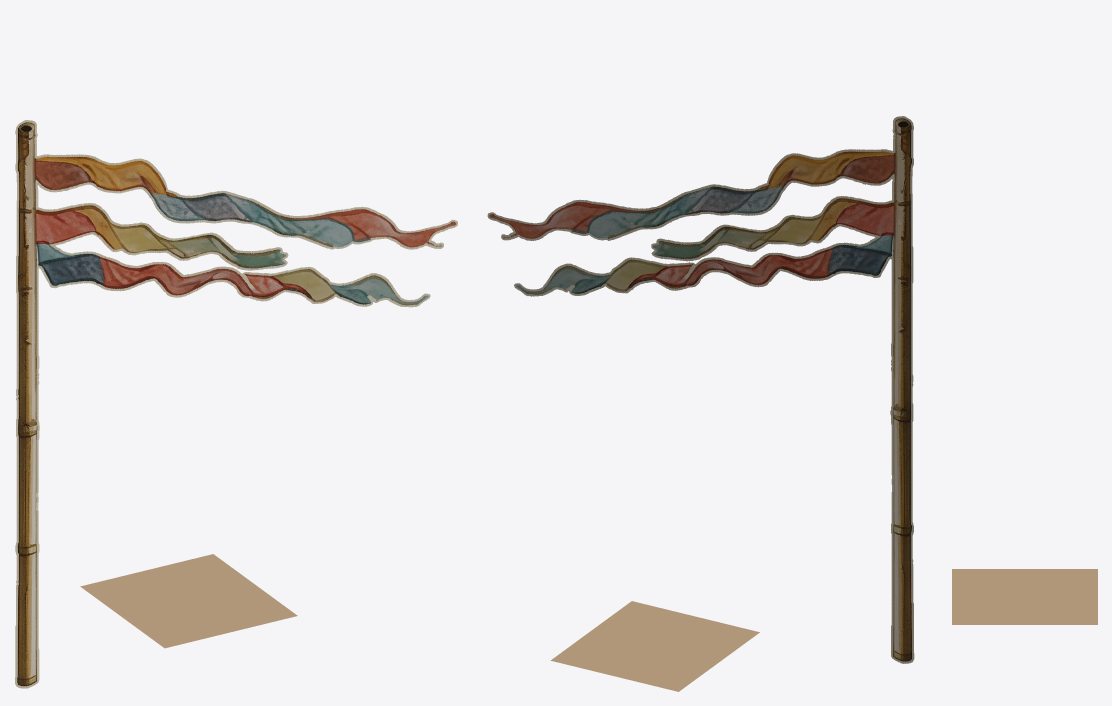
File: toad-standee-flags.glb
The picture shows the model from 3 angles, left to right: view 1: azimuth 30°, elevation 25°; view 2: azimuth 150°, elevation 25°; view 3: azimuth 270°, elevation 25°; orthographic projection. The views are drawn at different scales.
Parts seen in each view (by area): view 1: flags; view 2: flags; view 3: flags.
Boxes of the visible parts, x1=… form: flags: x1=15, y1=120, x2=457, y2=688; flags: x1=487, y1=116, x2=914, y2=691; flags: x1=952, y1=569, x2=1097, y2=624.
Size of the model in its own units: 0.1 by 0.1225 by 0.035.
Materials: 1 (1 with a texture image).
